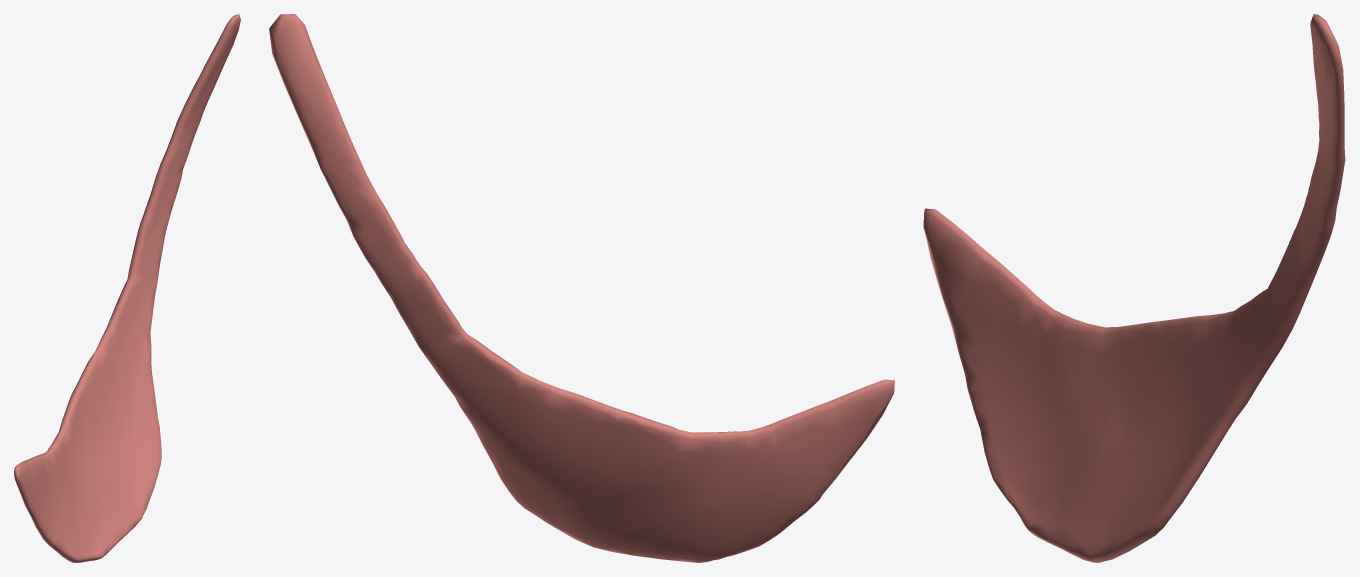
The picture shows the model from 3 angles, left to right: view 1: azimuth 30°, elevation 25°; view 2: azimuth 150°, elevation 25°; view 3: azimuth 270°, elevation 25°; orthographic projection. The views are drawn at different scales.
Parts seen in each view (by area): view 1: ZA_944148939c99af82; view 2: ZA_944148939c99af82; view 3: ZA_944148939c99af82.
Part boxes in pixels (bbox=[...]): ZA_944148939c99af82: bbox=[14, 14, 240, 562]; ZA_944148939c99af82: bbox=[269, 14, 894, 562]; ZA_944148939c99af82: bbox=[923, 14, 1345, 562].
Bounding box in the file's own units: 0.022 × 0.0255 × 0.014.
